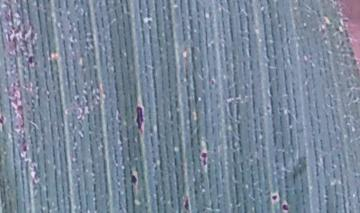tarspot: (133, 101, 147, 139), (198, 144, 210, 173), (128, 168, 140, 191), (181, 190, 193, 213), (24, 52, 38, 70), (269, 191, 281, 206), (279, 199, 291, 213), (20, 142, 30, 155), (208, 77, 218, 90), (1, 112, 8, 130)
